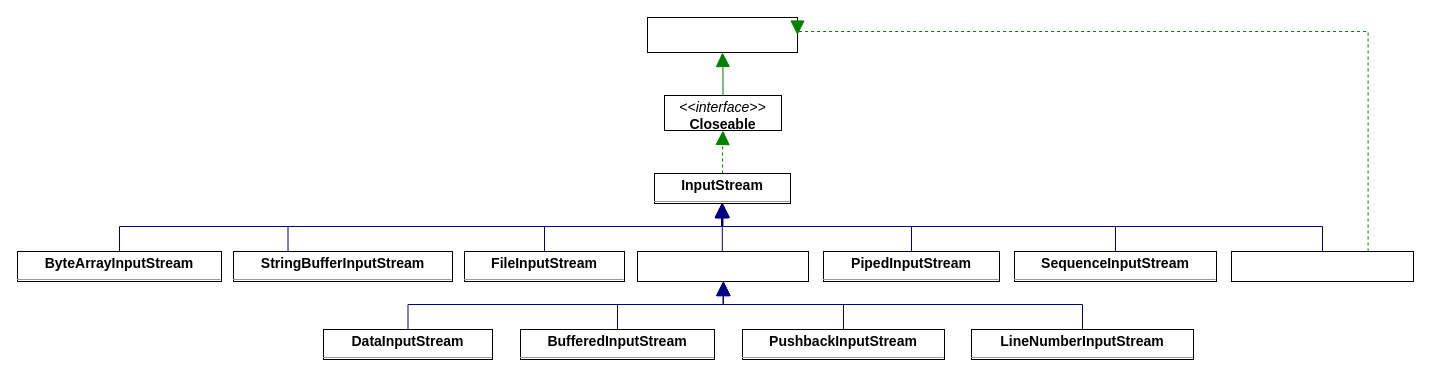
This 1431x377 diagram has some shape labels left out. The box of each missing label's shape, as (x1, y1, x2, y2) in pixels:
<<interface>> AutoCloseable: (646, 16, 798, 52)
FilterInputStream: (636, 250, 808, 282)
ObjectInputStream: (1230, 250, 1414, 282)
